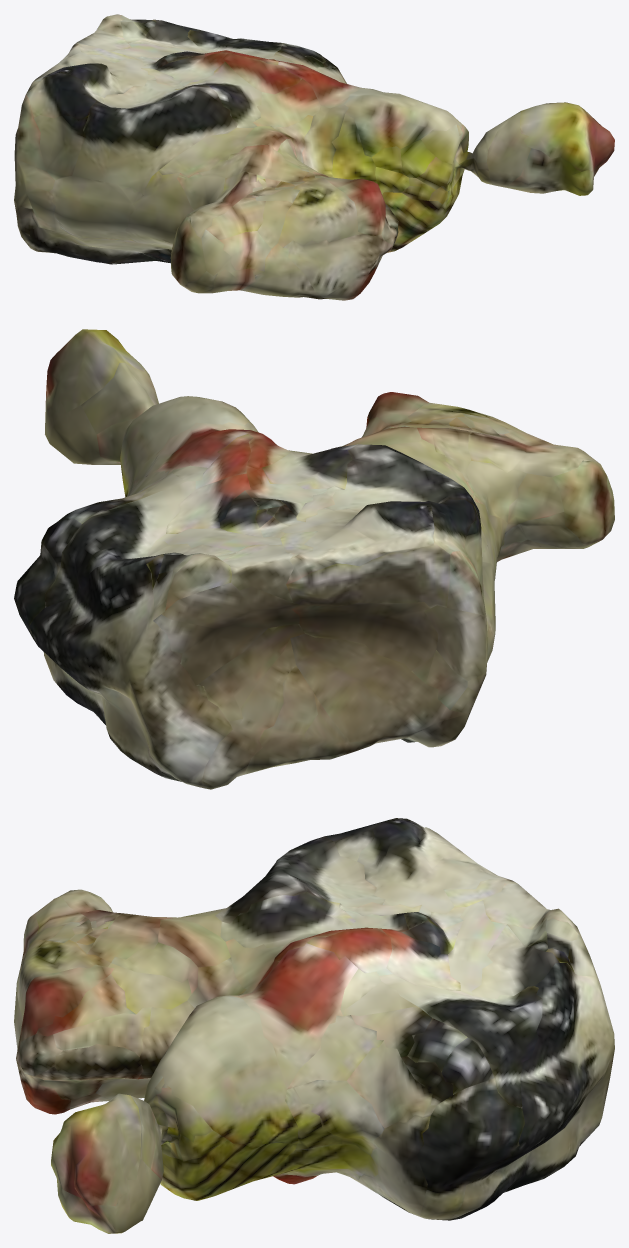
File: hall.glb
3 views of the same model, one above another, from view 1: azimuth 30°, elevation 25°; view 2: azimuth 150°, elevation 25°; view 3: azimuth 270°, elevation 25° (orthographic). The views are drawn at different scales.
Bounding box in the file's own units: 0.7736 × 0.3156 × 0.6765.
1 material, 1 textured.
